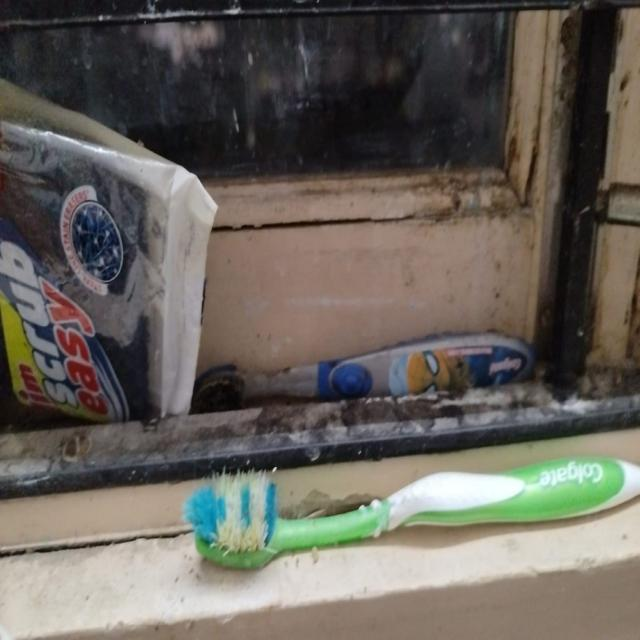dry: (0, 118, 219, 444), (180, 448, 640, 574), (194, 328, 539, 410)
